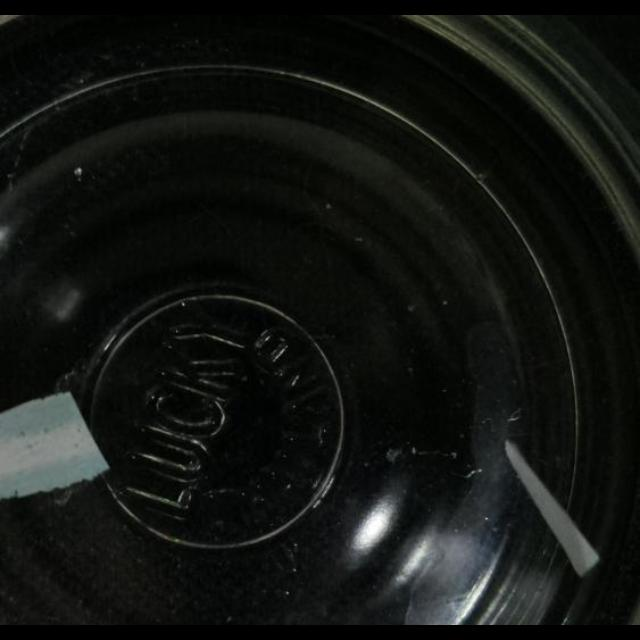Fragment: (499, 442, 599, 578), (0, 392, 112, 508)
